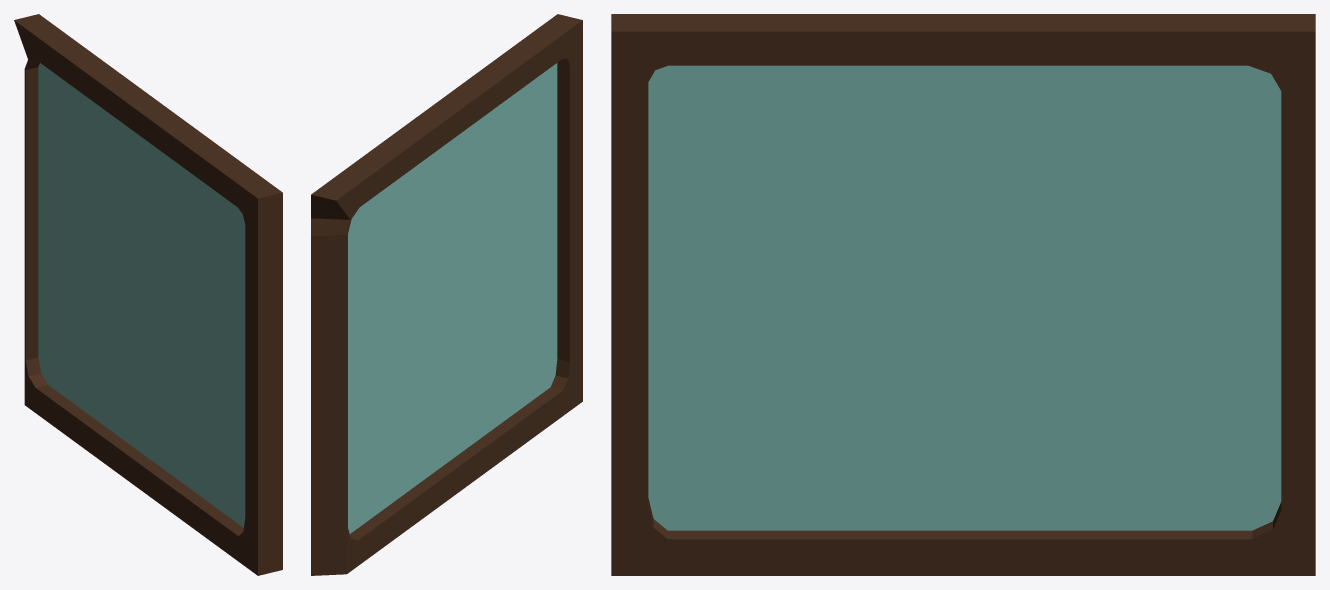
File: steklo.fbx
3 renders of one model, left to right at view 1: azimuth 30°, elevation 25°; view 2: azimuth 150°, elevation 25°; view 3: azimuth 270°, elevation 25°, orthographic. The views are drawn at different scales.
Parts seen in each view (by area): view 1: stekl; view 2: stekl; view 3: stekl.
Part boxes in pixels (x1,y1,x2,y2): stekl: (14,14,282,575); stekl: (311,14,582,575); stekl: (611,14,1315,575).
Size of the model in its own units: 1.05 by 15.24 by 17.87.
